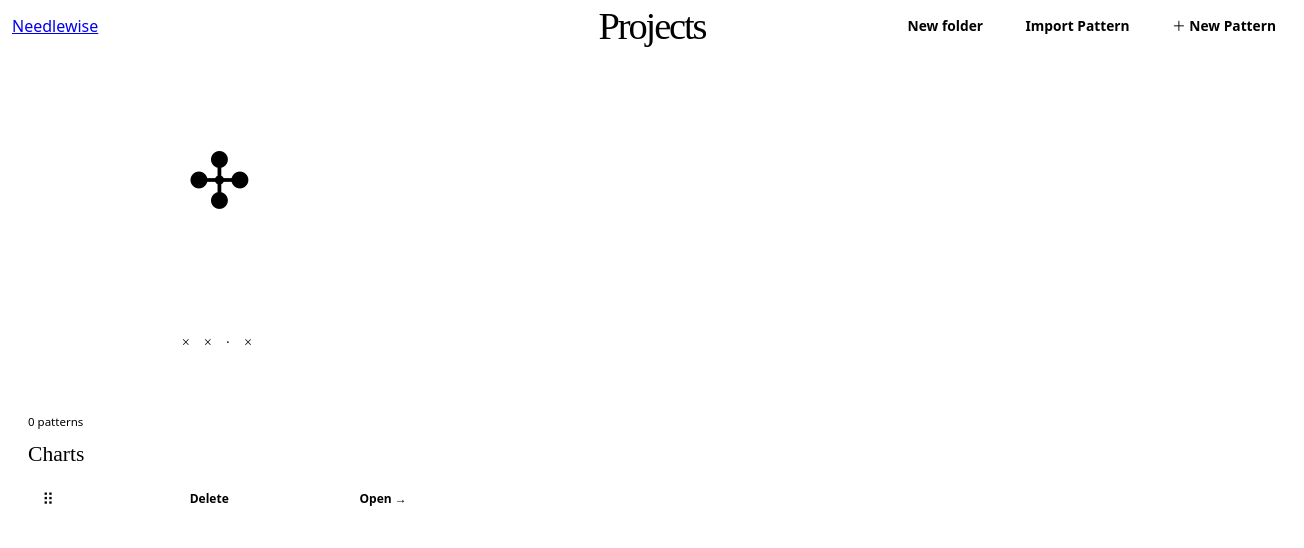
Test: ProjectGallery folders › disables the drag handle while renaming a folder, so selecting text in the input cannot start a card drag
Expected: the button named "Drag Charts" is enabled, [28,479,68,519]
Click the button with aria-label "Rename Charts": (56, 454) [28,442,84,467]
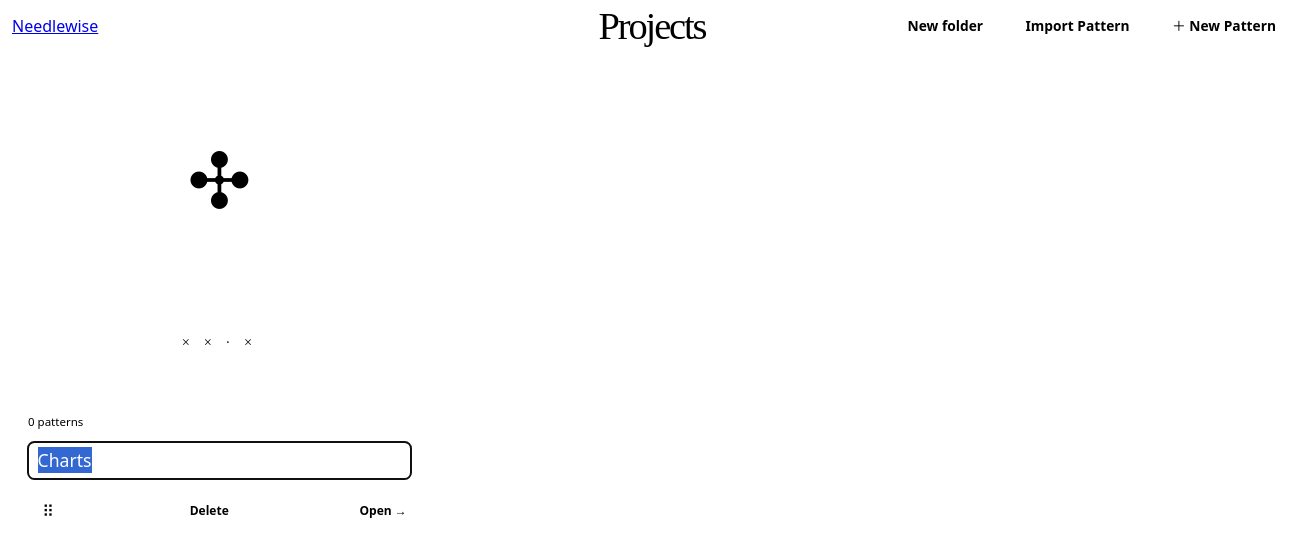
Now the field named "Rename folder Charts" is shown, box [28,442,411,479]
Now the button named "Drag Charts" is disabled, box [28,491,68,531]
